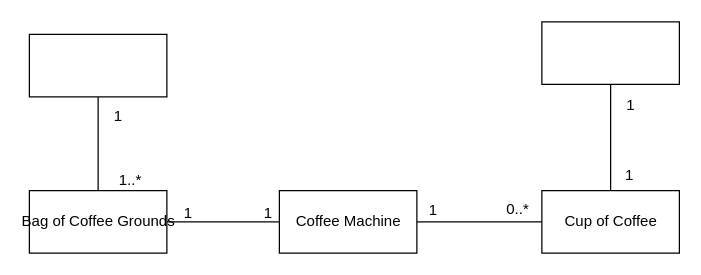
This 701x275 diagram has some shape labels left out. Each missing label, with the centre of its shape:
"Receiver" goes at point 610,52.
"Store" goes at point 97,65.
